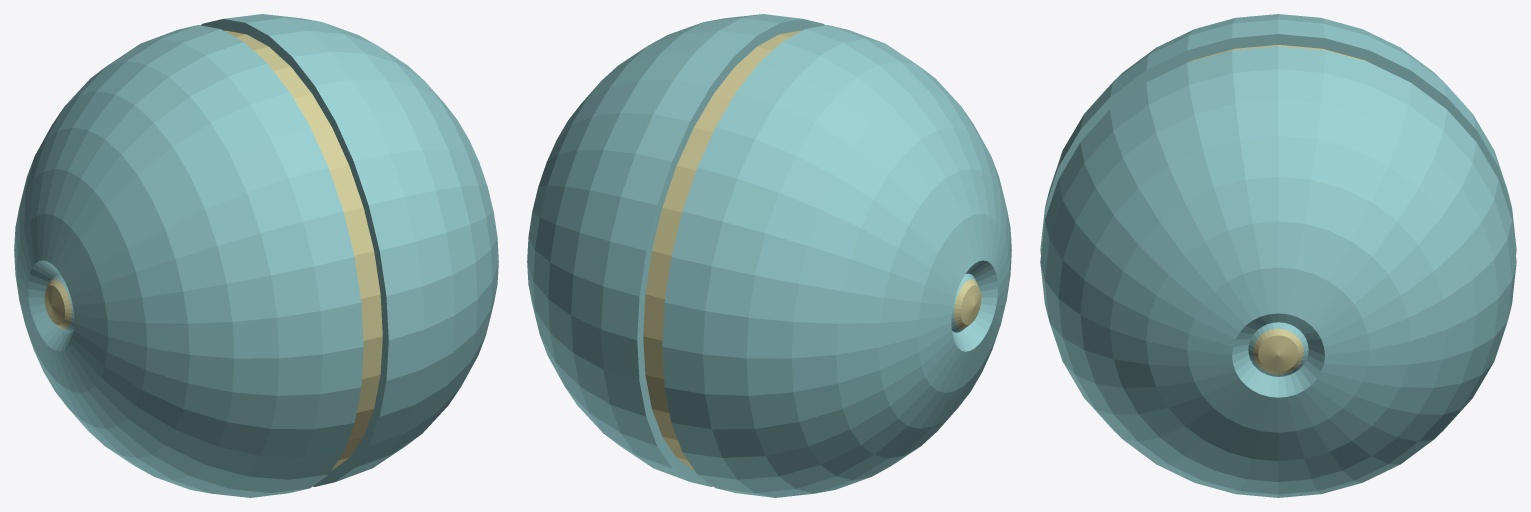
Rendered from player-ball.dae.
3 views of the same model, side by side, from view 1: azimuth 30°, elevation 25°; view 2: azimuth 150°, elevation 25°; view 3: azimuth 270°, elevation 25° (orthographic).
Parts seen in each view (by area): view 1: player-ball; view 2: player-ball; view 3: player-ball.
Boxes of the visible parts, <box> form: player-ball: <box>14,14,498,497</box>; player-ball: <box>527,14,1011,497</box>; player-ball: <box>1040,14,1516,497</box>.
Size of the model in its own units: 1.05 by 1.06 by 1.06.
